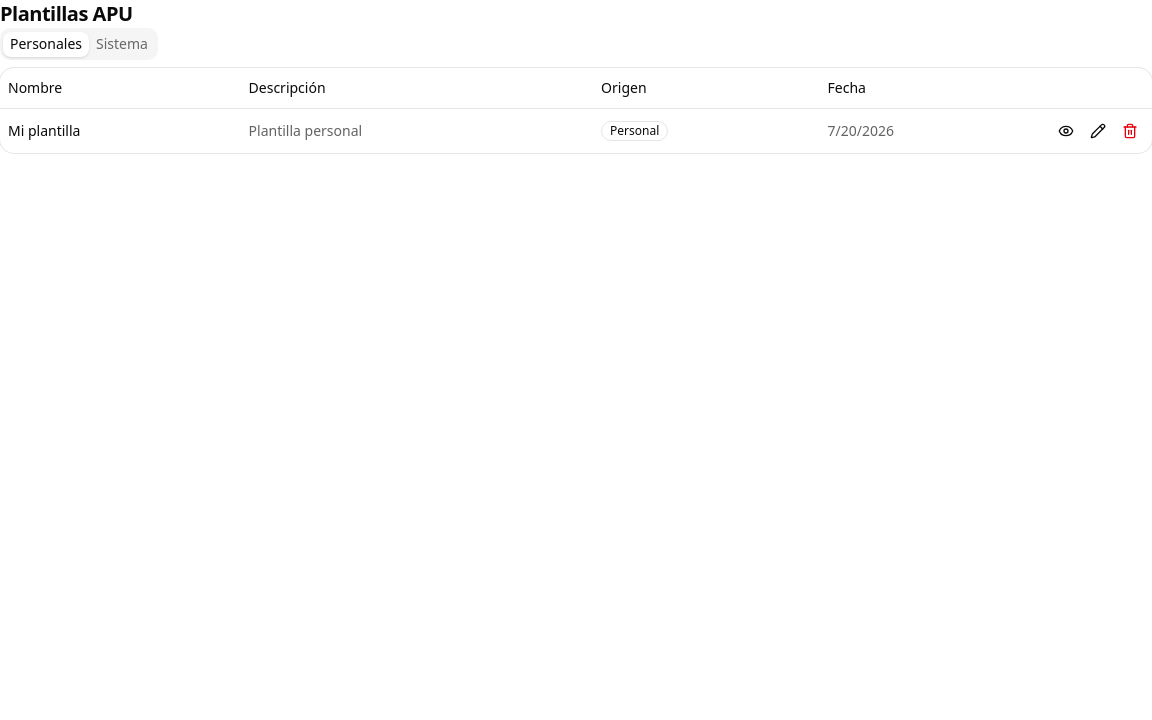
Scenario: MisPlantillasPage › la vista previa muestra la estructura del snapshot
What coordinates should you click on to do the following:
click the button named "Ver plantilla"
I would click on:
 (1066, 130)
Its box is x1=1052 y1=116 x2=1080 y2=144.
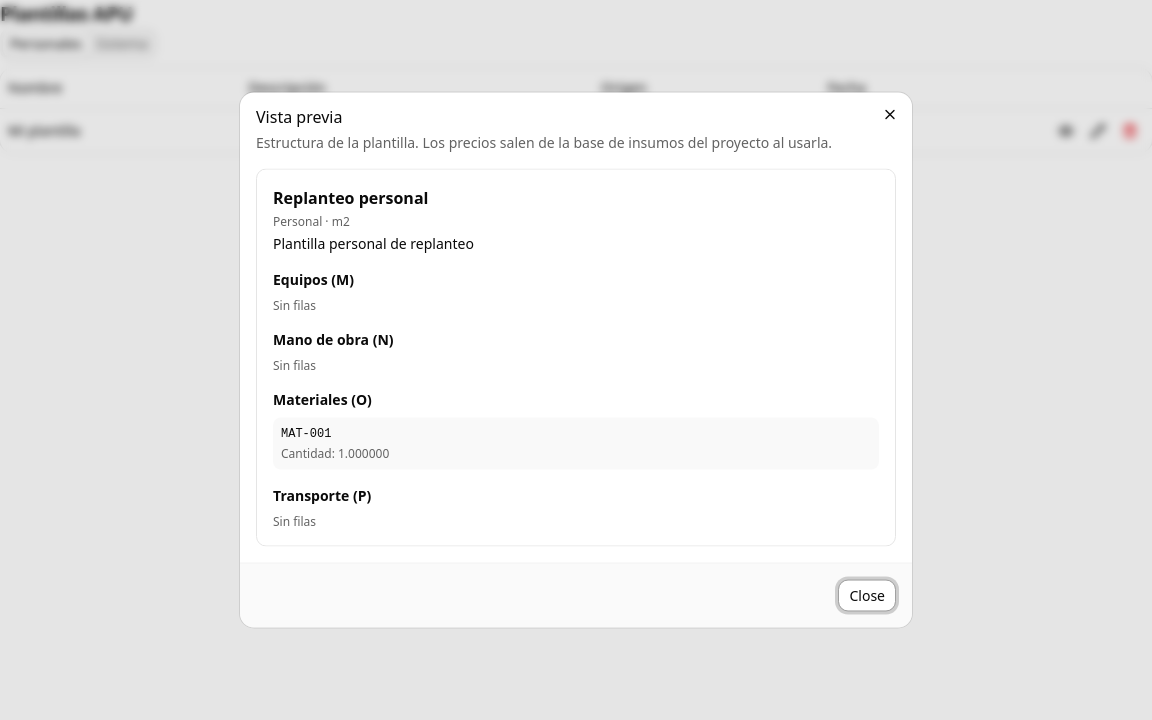
Check: the heading "Materiales (O)" is shown, box x1=273 y1=390 x2=372 y2=408
Check: the text "MAT-001" is shown, box x1=281 y1=426 x2=331 y2=440
